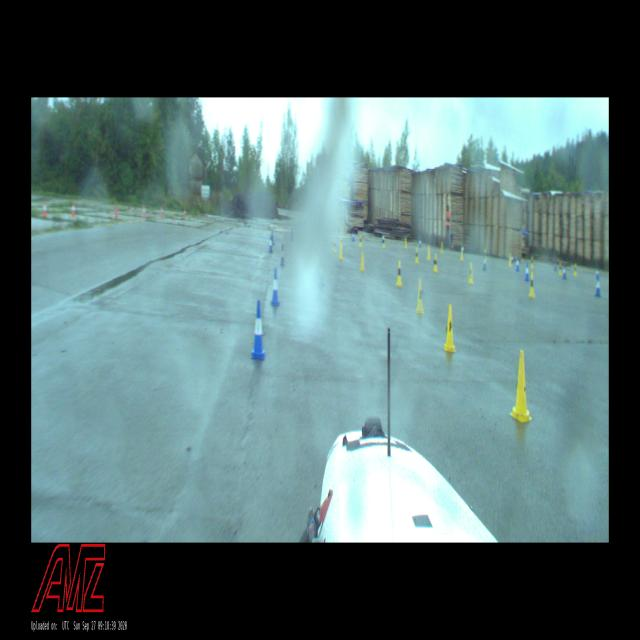blue_cone: (250, 301, 266, 361), (270, 268, 280, 307), (280, 244, 286, 267), (595, 276, 601, 298), (524, 263, 530, 281), (269, 235, 273, 253), (482, 257, 487, 270), (562, 264, 566, 280), (516, 257, 520, 271), (418, 238, 422, 248), (596, 268, 599, 280), (352, 231, 355, 241)
orange_cone: (42, 201, 48, 218), (71, 201, 76, 217), (142, 205, 146, 218), (115, 204, 118, 218), (160, 207, 163, 216), (184, 208, 186, 218)
yellow_cone: (510, 350, 532, 423), (443, 304, 456, 353), (416, 280, 424, 314), (396, 260, 403, 287), (529, 272, 535, 298), (468, 262, 474, 285), (359, 250, 365, 272), (433, 254, 438, 273), (414, 248, 419, 264), (339, 243, 343, 261), (459, 247, 464, 261), (427, 245, 431, 261), (558, 262, 562, 276), (530, 256, 534, 269), (508, 254, 512, 267), (574, 264, 577, 277), (333, 240, 336, 253), (359, 235, 362, 248), (440, 242, 443, 255), (382, 236, 385, 248), (404, 237, 407, 249), (340, 236, 343, 248)
